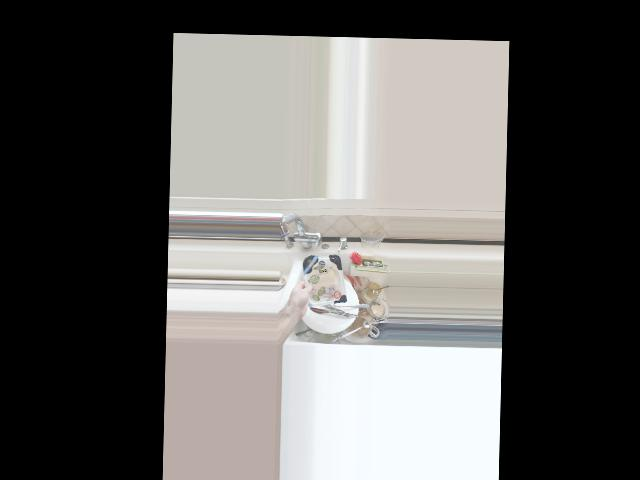cheese: (288, 250, 346, 315)
